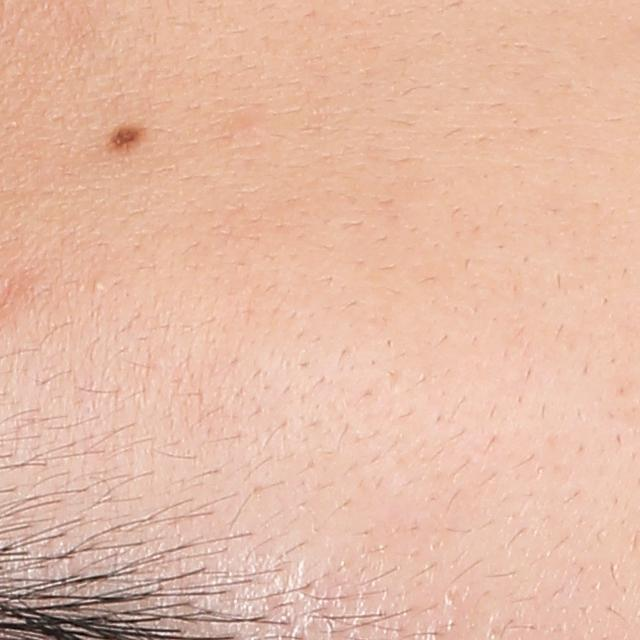comedo: (89, 276, 108, 294)
nevus: (103, 121, 149, 151)
